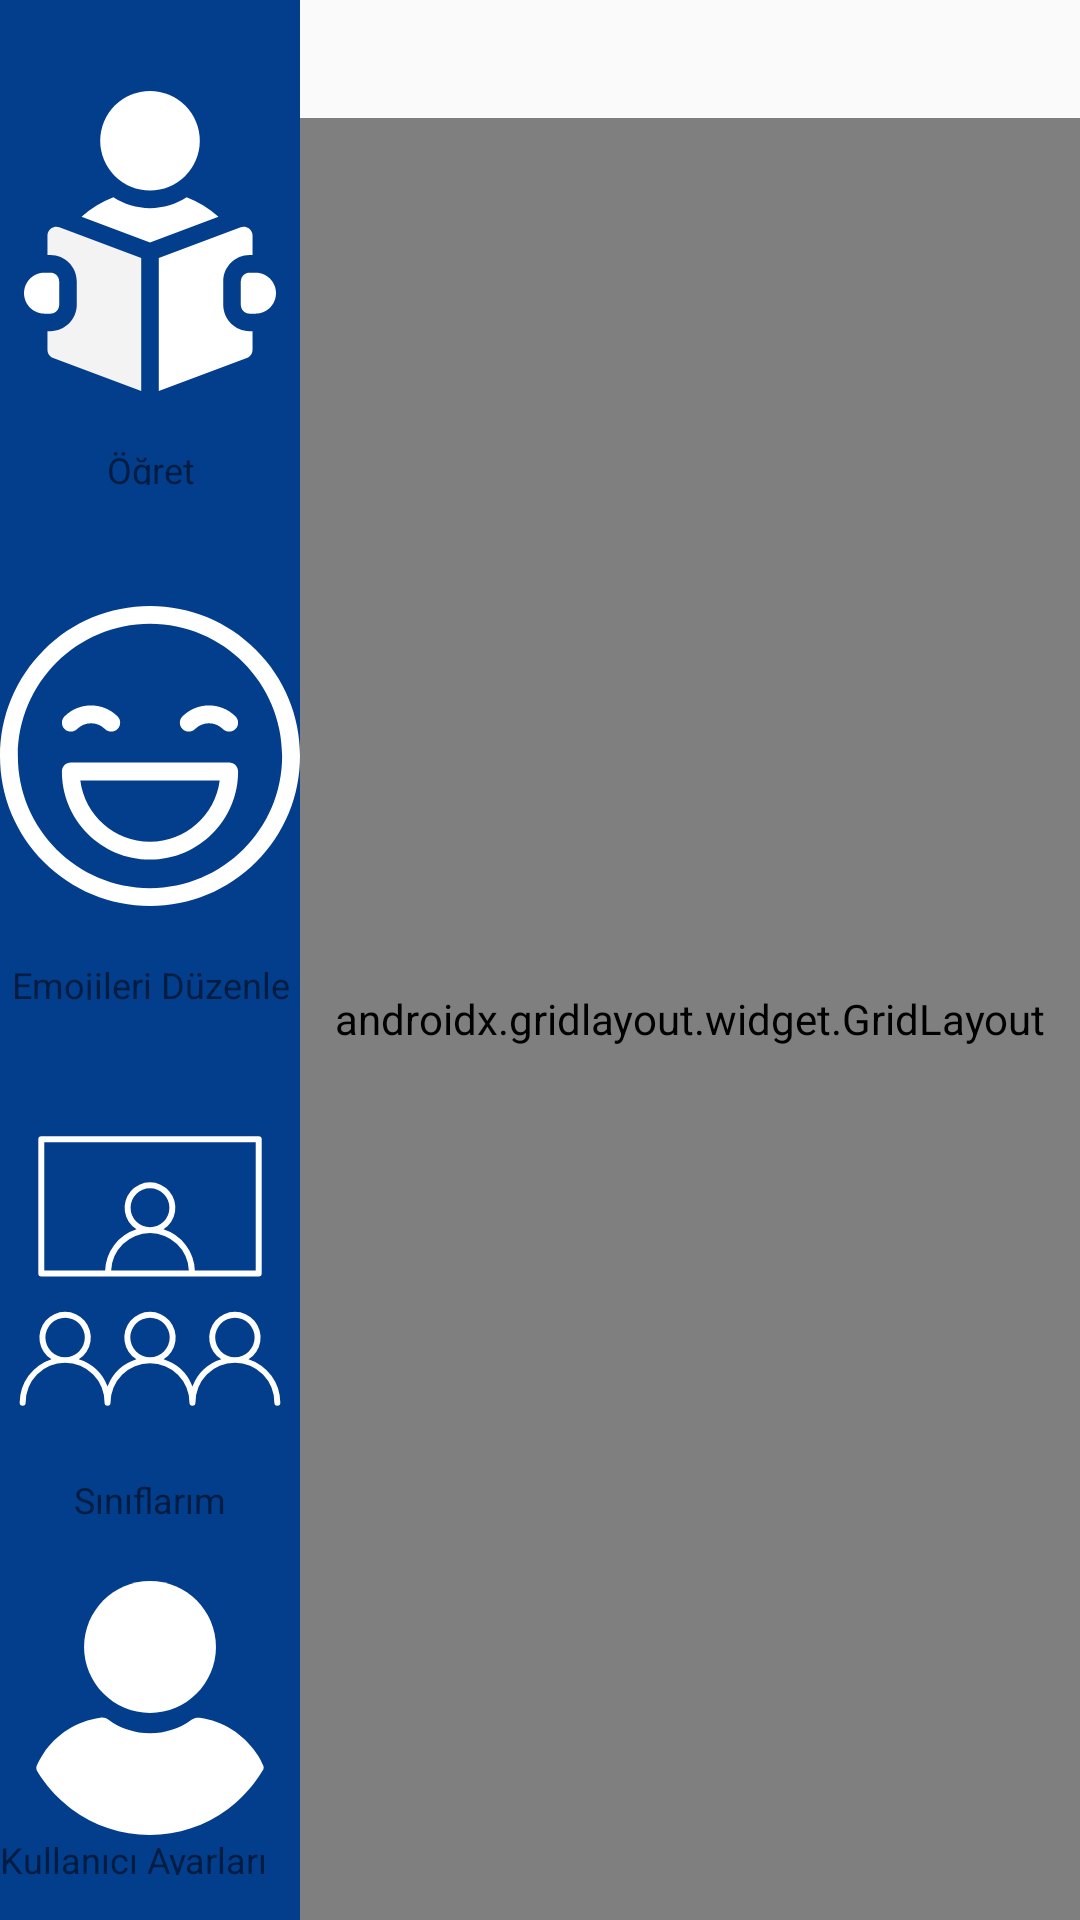

Icons on this 1080 x 1920 Android screen, each with its box as bbox=(x1, y1, x2, y2):
happy: bbox=(0, 606, 300, 906)
tutorials: bbox=(24, 91, 276, 391)
